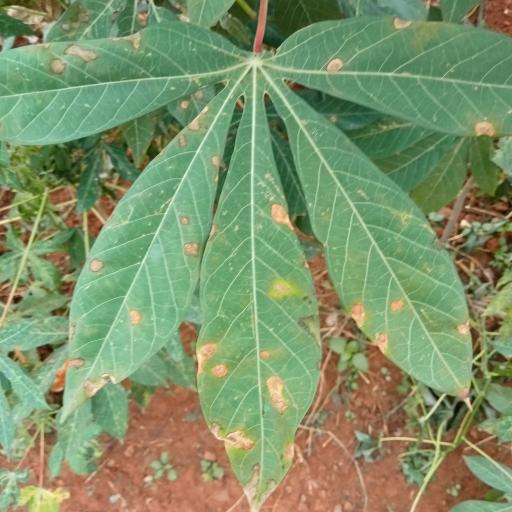Cassava_Brown_Leaf_Spot: (0, 14, 498, 507)
